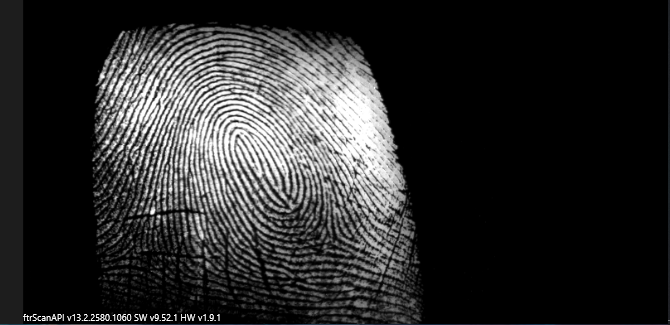deltas: (306, 211, 363, 265)
nucleo: (229, 125, 273, 180)
